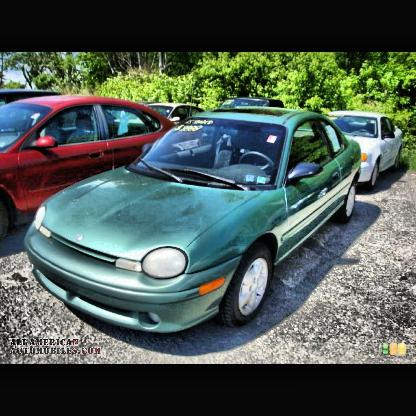Plymouth Neon Coupe 1999: (25, 107, 365, 342)
